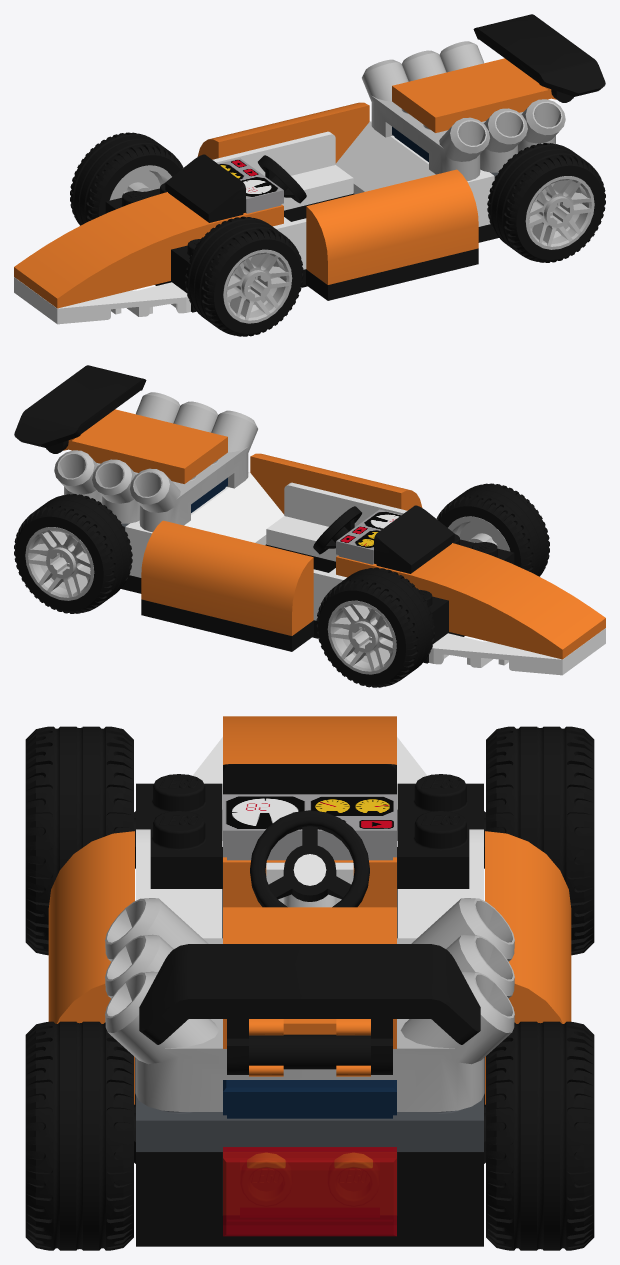
Rendered from Race Car - currect.dae.
3 renders of one model, top to bottom at view 1: azimuth 30°, elevation 25°; view 2: azimuth 150°, elevation 25°; view 3: azimuth 270°, elevation 25°, orthographic. The views are drawn at different scales.
Parts seen in each view (by area): view 1: Part.51, Part.46, Part.26, Part.25, Part.37, Part.57, Part.48, Part.53, Part.23, Part.38, Part.27, Part.52 (+10 smaller); view 2: Part.52, Part.46, Part.23, Part.24, Part.37, Part.57, Part.48, Part.53, Part.26, Part.38, Part.28, Part.51 (+10 smaller); view 3: Part.53, Part.57, Part.25, Part.24, Part.50, Part.33, Part.26, Part.23, Part.36, Part.52, Part.51, Part.46 (+12 smaller).
Part boxes in pixels (bbox=[...]): Part.51: bbox=[306, 169, 478, 284]; Part.46: bbox=[14, 192, 283, 308]; Part.26: bbox=[185, 216, 303, 336]; Part.25: bbox=[487, 143, 605, 262]; Part.37: bbox=[392, 58, 556, 132]; Part.57: bbox=[473, 14, 605, 102]; Part.48: bbox=[362, 59, 489, 181]; Part.53: bbox=[105, 183, 498, 312]; Part.23: bbox=[70, 132, 183, 225]; Part.38: bbox=[335, 121, 494, 226]; Part.27: bbox=[183, 131, 353, 210]; Part.52: bbox=[197, 102, 369, 163]; Part.52: bbox=[141, 520, 313, 635]; Part.46: bbox=[336, 543, 605, 659]; Part.23: bbox=[316, 567, 434, 687]; Part.24: bbox=[14, 494, 132, 613]; Part.37: bbox=[63, 409, 227, 483]; Part.57: bbox=[14, 365, 146, 453]; Part.48: bbox=[130, 410, 257, 532]; Part.53: bbox=[121, 534, 514, 663]; Part.26: bbox=[436, 483, 549, 576]; Part.38: bbox=[125, 472, 284, 577]; Part.28: bbox=[266, 482, 436, 561]; Part.51: bbox=[250, 453, 422, 514]; Part.53: bbox=[134, 774, 485, 1246]; Part.57: bbox=[139, 944, 480, 1074]; Part.25: bbox=[25, 1021, 133, 1250]; Part.24: bbox=[486, 1021, 594, 1250]; Part.50: bbox=[105, 971, 514, 1111]; Part.33: bbox=[223, 1147, 396, 1236]; Part.26: bbox=[25, 726, 133, 955]; Part.23: bbox=[486, 726, 594, 955]; Part.36: bbox=[136, 1095, 483, 1151]; Part.52: bbox=[485, 831, 571, 1104]; Part.51: bbox=[48, 831, 134, 1104]; Part.46: bbox=[223, 716, 396, 907].
Bounding box in the file's own units: 0.1119 × 0.0521 × 0.0318.
Materials: 11 (1 with a texture image).
